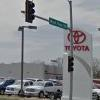traffic lights: (25, 0, 36, 24)
